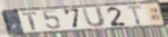2: (106, 6, 127, 27)
5: (42, 9, 63, 31)
7: (62, 8, 81, 30)
T: (126, 5, 144, 26), (21, 12, 39, 32)
U: (81, 6, 107, 29)
